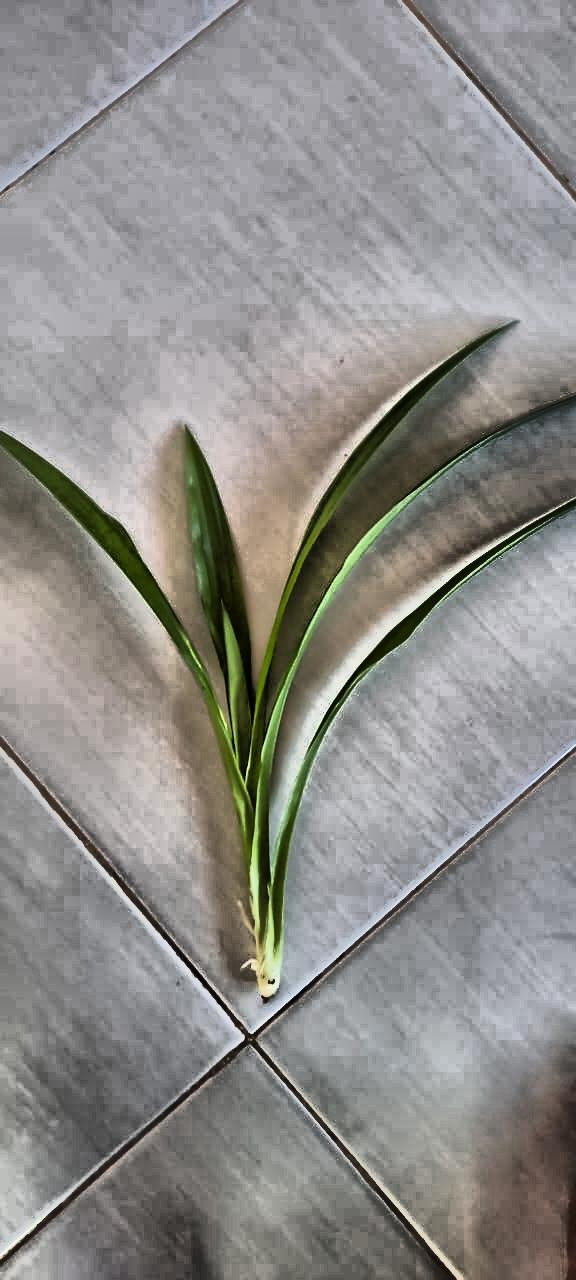daun pandan: (0, 326, 575, 1000)
